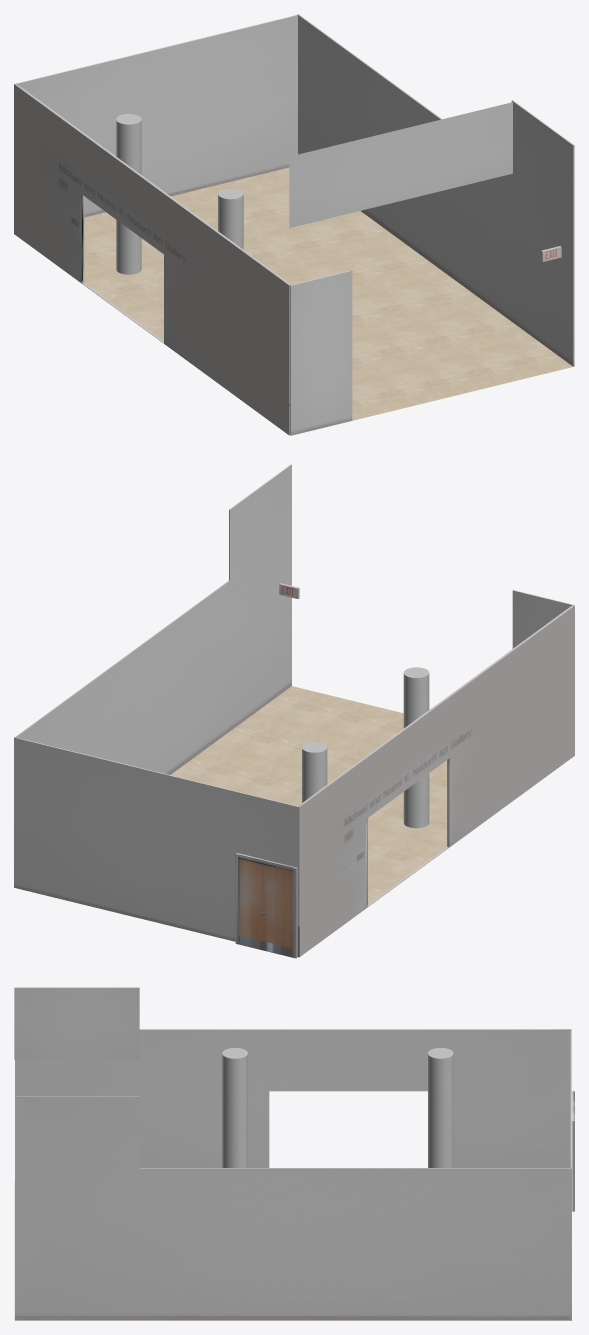
Rendered from gallerymodel.glb.
3 renders of one model, top to bottom at view 1: azimuth 30°, elevation 25°; view 2: azimuth 150°, elevation 25°; view 3: azimuth 270°, elevation 25°, orthographic.
Parts seen in each view (by area): view 1: backwall; view 2: backwall; view 3: backwall.
Boxes of the visible parts, left/top/right/bottom form: backwall: left=14, top=14, right=574, bottom=435; backwall: left=14, top=464, right=574, bottom=958; backwall: left=14, top=987, right=574, bottom=1320.
Size of the model in its own units: 23.28 by 17.3 by 39.28.
Materials: 7 (7 with a texture image).
